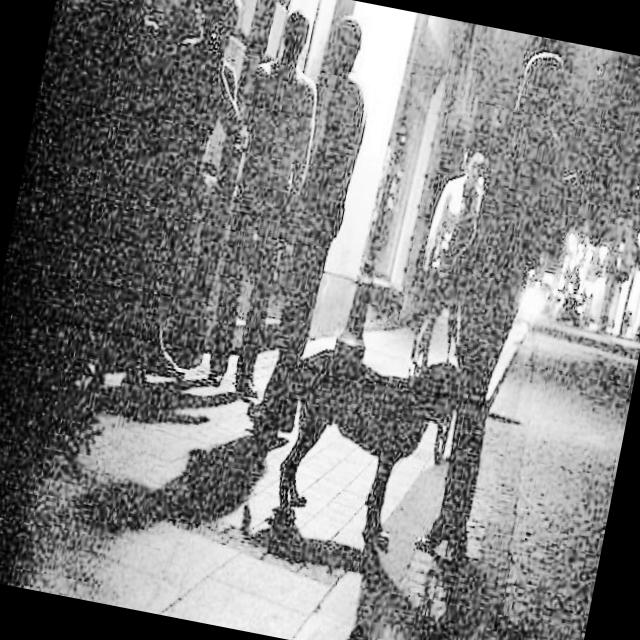Dog: (244, 328, 476, 573)
